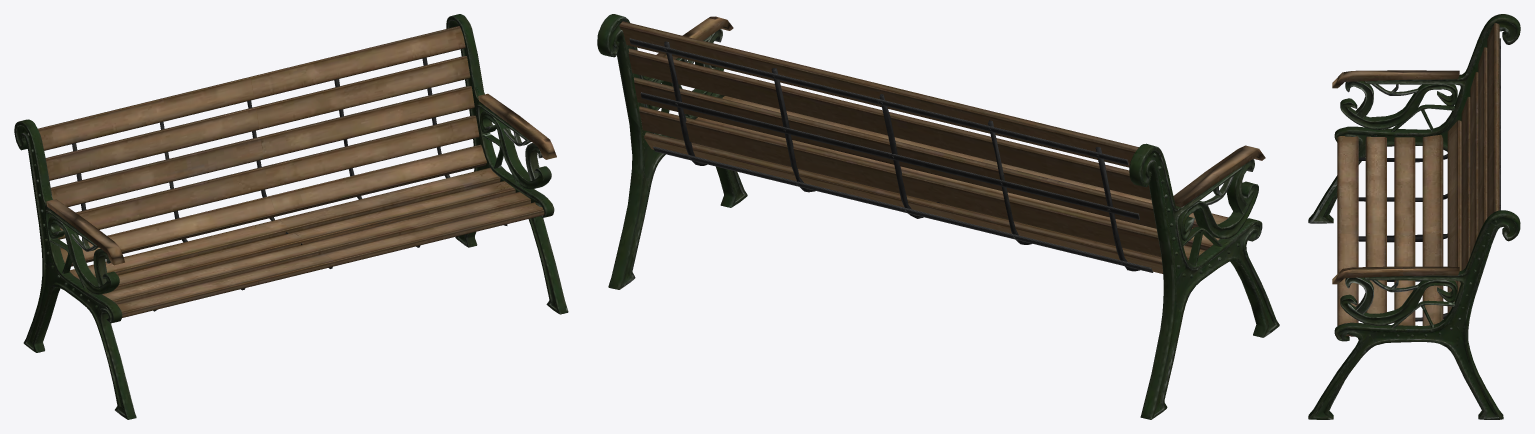
File: plaza-bench.glb
3 views of the same model, side by side, from view 1: azimuth 30°, elevation 25°; view 2: azimuth 150°, elevation 25°; view 3: azimuth 270°, elevation 25° (orthographic). The views are drawn at different scales.
Visible parts, largest first — view 1: Plane.010_hozl_0, Plane.010_medl1_0, Plane.010_medl2_0; view 2: Plane.010_hozl_0, Plane.010_medl1_0, Plane.010_medl2_0; view 3: Plane.010_hozl_0, Plane.010_medl1_0, Plane.010_medl2_0.
Part boxes in pixels (x1,y1,x2,y2): Plane.010_hozl_0: (38, 26, 556, 317); Plane.010_medl1_0: (14, 14, 568, 419); Plane.010_medl2_0: (72, 57, 507, 311); Plane.010_hozl_0: (619, 16, 1265, 273); Plane.010_medl1_0: (597, 14, 1279, 419); Plane.010_medl2_0: (629, 38, 1153, 272); Plane.010_hozl_0: (1332, 23, 1499, 336); Plane.010_medl1_0: (1308, 14, 1520, 419); Plane.010_medl2_0: (1358, 38, 1500, 321).
Bounding box in the file's own units: 1.78 × 0.8499 × 0.7924.
3 materials, 3 textured.
